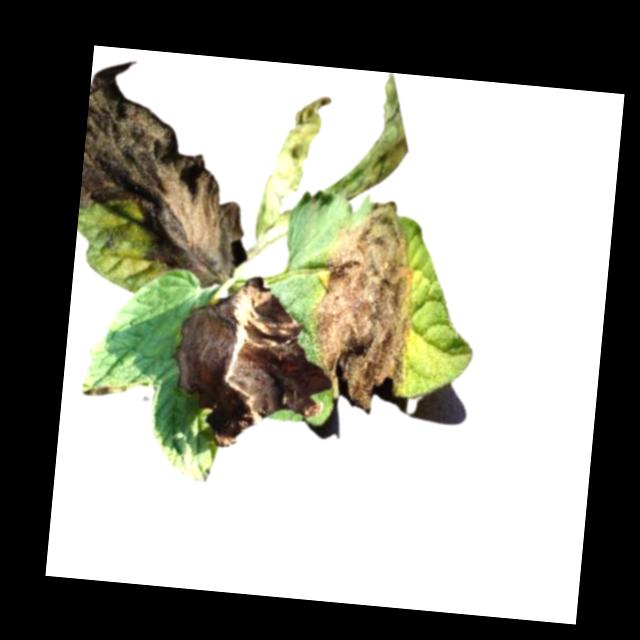Late_blight: (74, 57, 258, 289), (164, 267, 333, 458), (302, 193, 420, 415), (253, 91, 329, 242), (338, 68, 414, 198)
